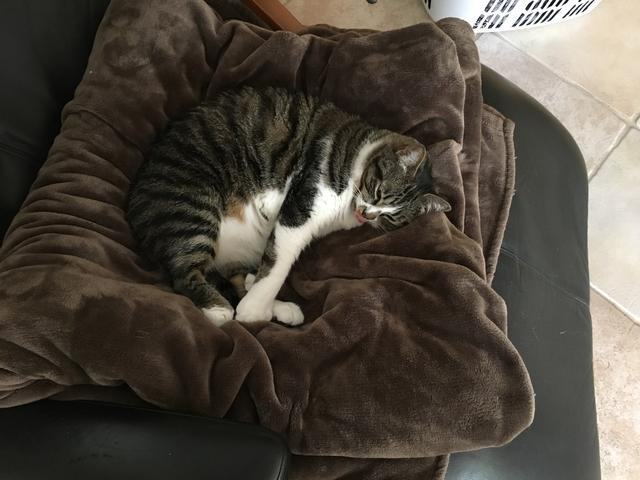playdoh: (128, 87, 454, 326)
